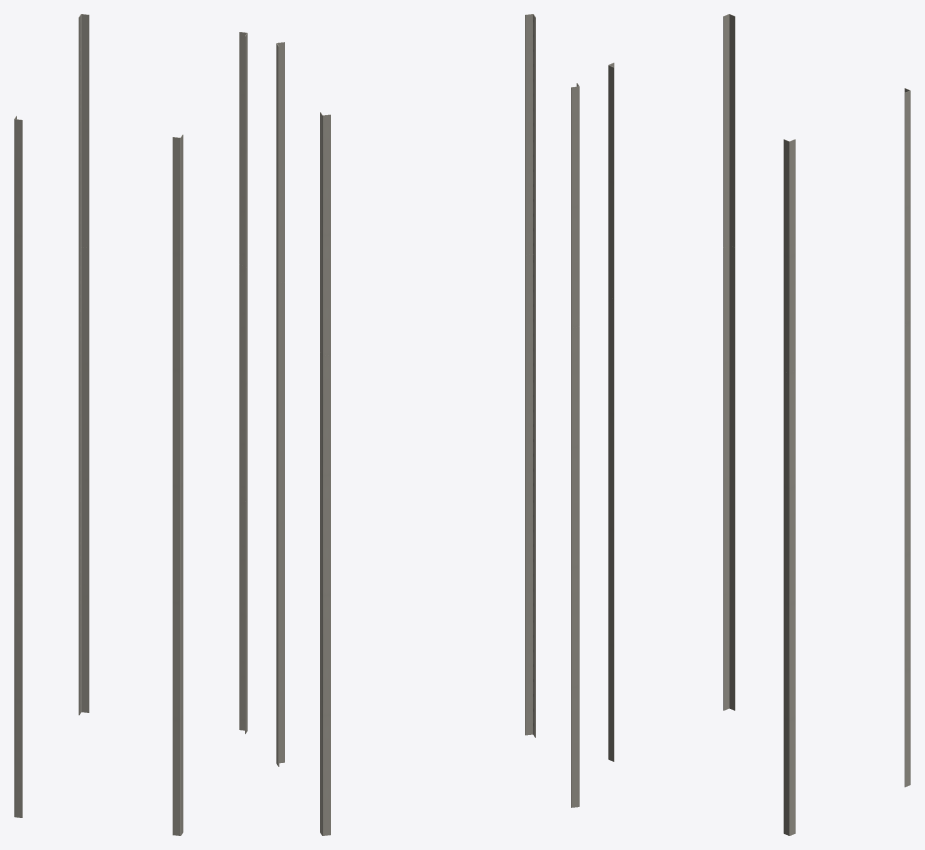
Rendered from shelf_0301_t50_h1800_w600.glb.
3 views of the same model, side by side, from view 1: azimuth 30°, elevation 25°; view 2: azimuth 150°, elevation 25°; view 3: azimuth 270°, elevation 25° (orthographic). The views are drawn at different scales.
Parts seen in each view (by area): view 1: shelf_0301_t50_h1800_w600; view 2: shelf_0301_t50_h1800_w600; view 3: shelf_0301_t50_h1800_w600.
Boxes of the visible parts, <box> form: shelf_0301_t50_h1800_w600: <box>14,14,247,835</box>; shelf_0301_t50_h1800_w600: <box>276,14,579,835</box>; shelf_0301_t50_h1800_w600: <box>608,14,910,835</box>.
Bounding box in the file's own units: 0.7101 × 1.8 × 0.7101.
Materials: 1 (1 with a texture image).
